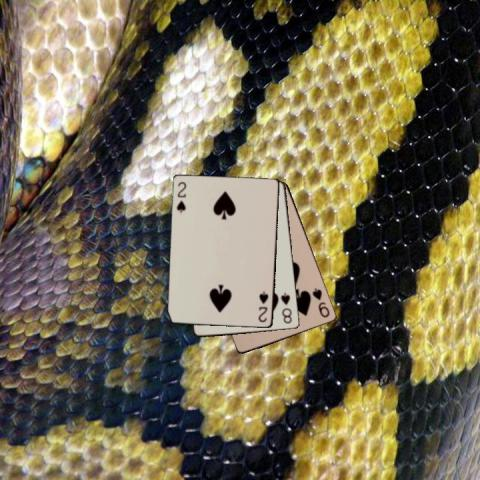2s: (174, 179, 187, 214), (256, 289, 269, 323)
8s: (278, 290, 293, 325)
9s: (310, 284, 332, 318)
